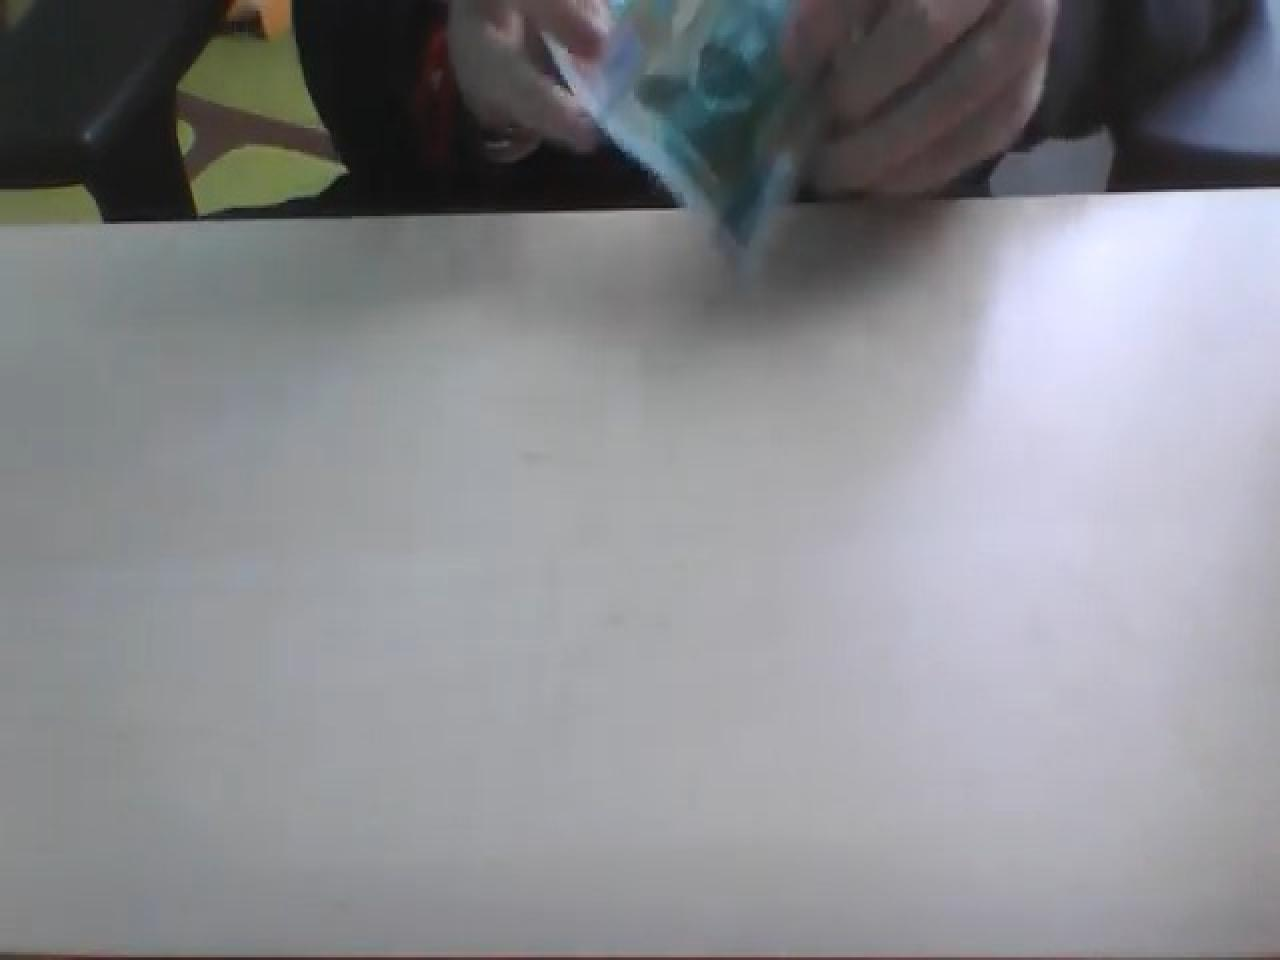100leva: (550, 0, 842, 256)
